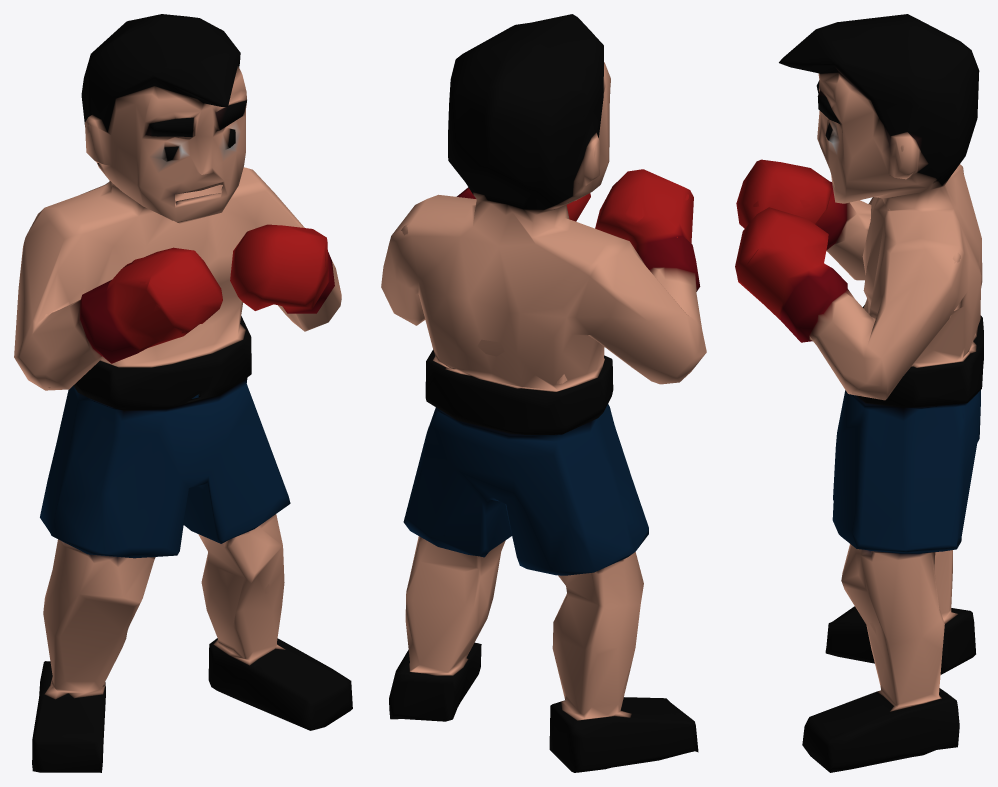
The model's file is gen3d-boxer-lod0.glb.
The picture shows the model from 3 angles, left to right: view 1: azimuth 30°, elevation 25°; view 2: azimuth 150°, elevation 25°; view 3: azimuth 270°, elevation 25°; orthographic projection. The views are drawn at different scales.
Parts seen in each view (by area): view 1: part_0; view 2: part_0; view 3: part_0.
Part boxes in pixels (<box>): part_0: <box>14,14,352,772</box>; part_0: <box>381,14,706,772</box>; part_0: <box>735,14,983,772</box>.
Size of the model in its own units: 0.4719 by 0.9982 by 0.3314.
